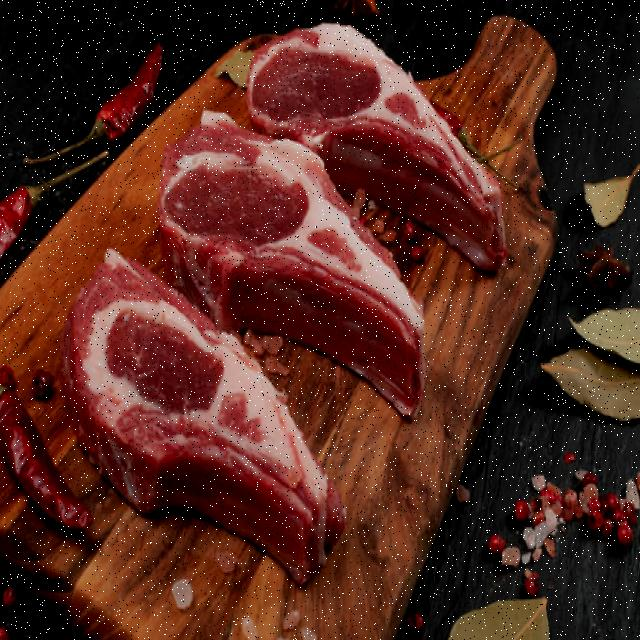Buffalo Meat: (37, 235, 350, 549), (117, 92, 446, 387), (238, 25, 532, 282)
